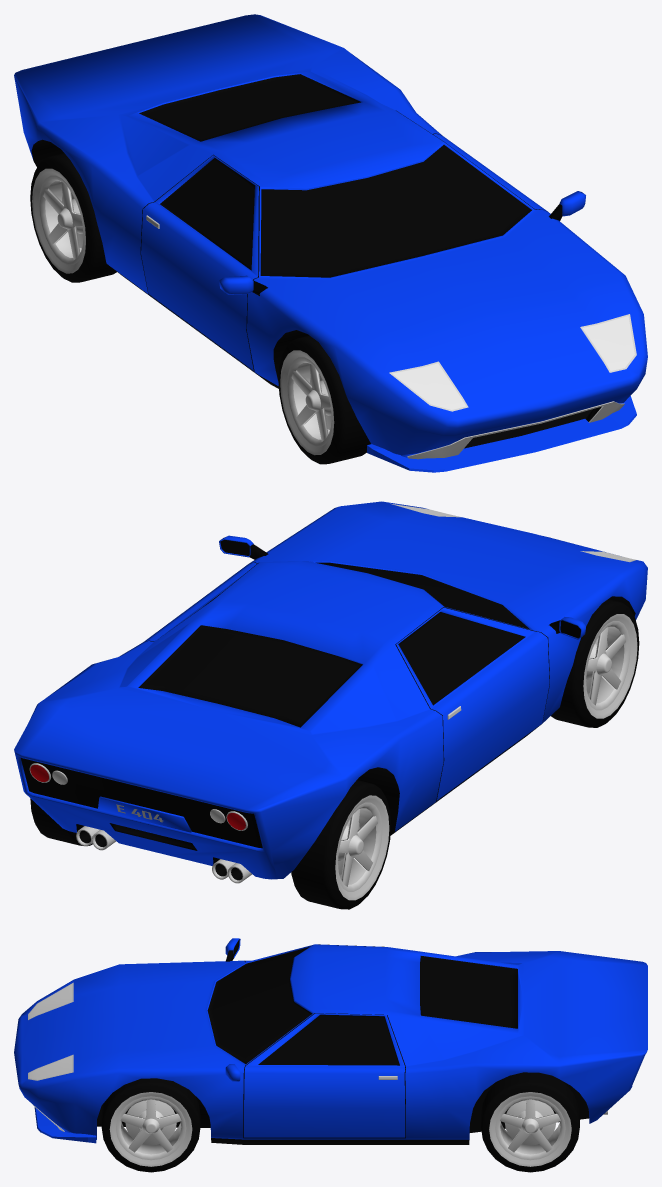
File: car1.fbx
3 views of the same model, one above another, from view 1: azimuth 30°, elevation 25°; view 2: azimuth 150°, elevation 25°; view 3: azimuth 270°, elevation 25° (orthographic). The views are drawn at different scales.
Parts seen in each view (by area): view 1: body, wheel front right, wheel rear right; view 2: body, wheel rear right, wheel front right, wheel rear left, rear bulb1; view 3: body, wheel rear left, wheel front left.
Part boxes in pixels (<box>): body: <box>14,14,647,472</box>; wheel front right: <box>278,335,370,464</box>; wheel rear right: <box>30,153,116,282</box>; body: <box>14,501,647,883</box>; wheel rear right: <box>291,780,391,909</box>; wheel front right: <box>551,599,639,727</box>; wheel rear left: <box>30,798,92,845</box>; rear bulb1: <box>29,762,248,830</box>; body: <box>14,938,647,1144</box>; wheel rear left: <box>481,1072,579,1172</box>; wheel front left: <box>101,1078,200,1172</box>.
Bounding box in the file's own units: 186 × 91.4 × 367.
